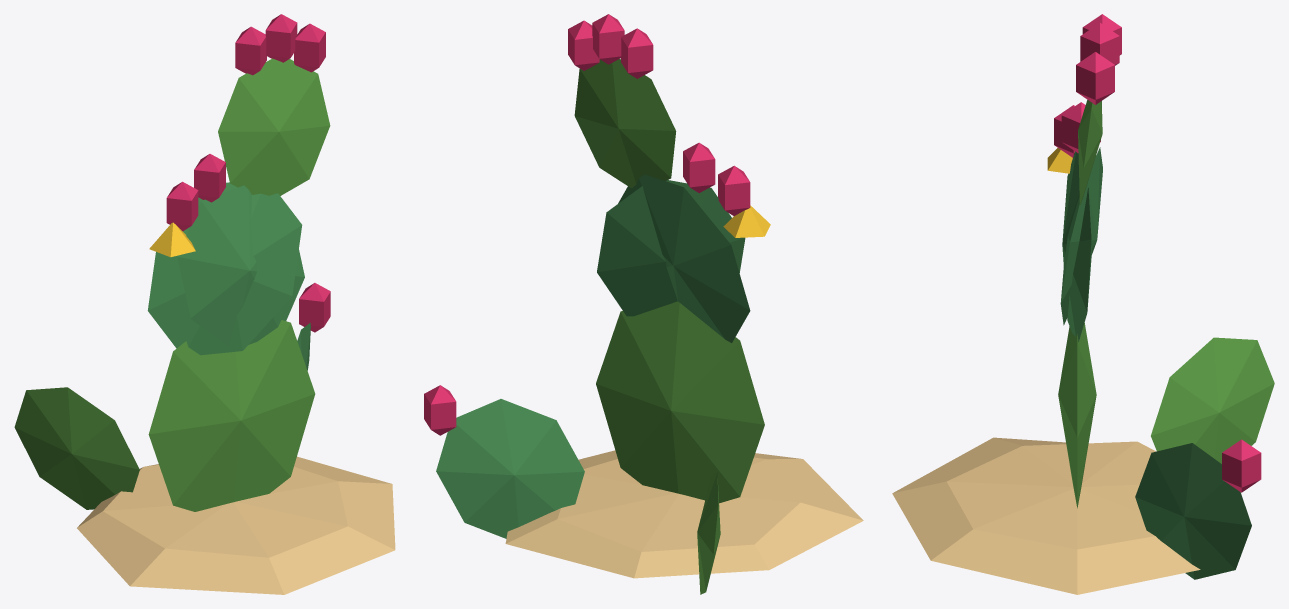
File: prickly_pear.glb
3 views of the same model, side by side, from view 1: azimuth 30°, elevation 25°; view 2: azimuth 150°, elevation 25°; view 3: azimuth 270°, elevation 25° (orthographic). The views are drawn at different scales.
Parts seen in each view (by area): view 1: prickly_pear; view 2: prickly_pear; view 3: prickly_pear.
Part boxes in pixels (left/top/right/bottom): prickly_pear: left=14, top=14, right=395, bottom=594; prickly_pear: left=424, top=14, right=863, bottom=594; prickly_pear: left=892, top=14, right=1274, bottom=594.
Bounding box in the file's own units: 0.5173 × 0.7804 × 0.5061.
